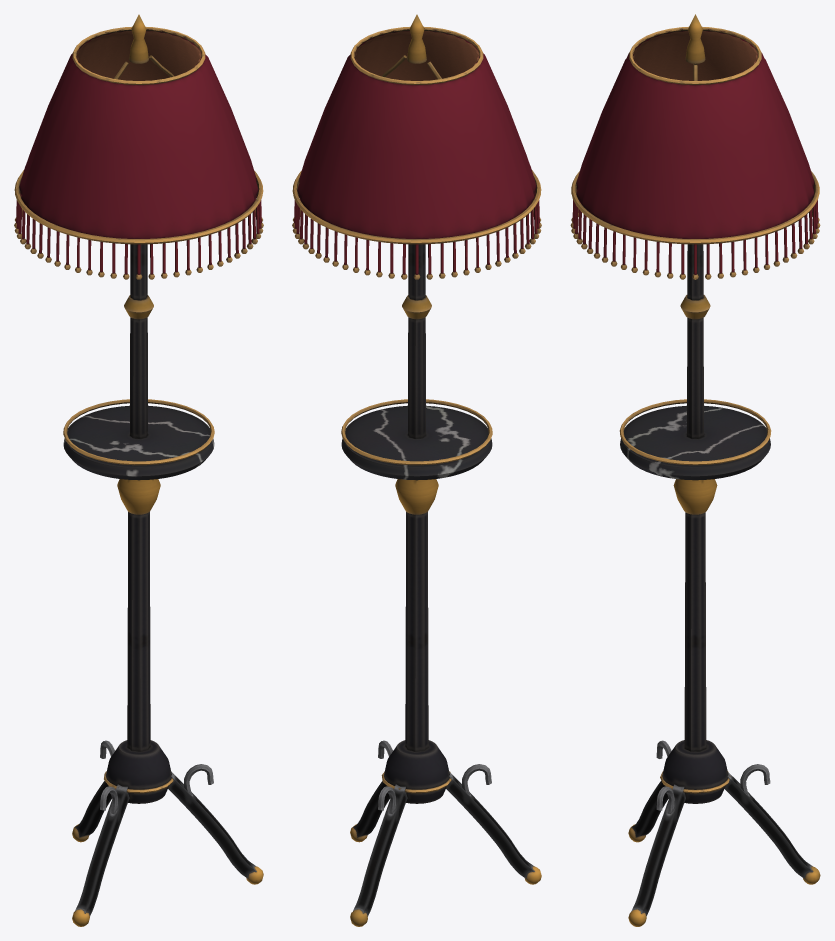
Rendered from FloorLamp.fbx.
3 renders of one model, left to right at view 1: azimuth 30°, elevation 25°; view 2: azimuth 150°, elevation 25°; view 3: azimuth 270°, elevation 25°, orthographic.
Visible parts, largest first — view 1: FloorLamp_Main; view 2: FloorLamp_Main; view 3: FloorLamp_Main.
Part boxes in pixels (x1=…): FloorLamp_Main: x1=14, y1=14, x2=263, y2=926; FloorLamp_Main: x1=292, y1=14, x2=541, y2=926; FloorLamp_Main: x1=570, y1=14, x2=820, y2=926.
Bounding box in the file's own units: 148 × 572 × 149.
